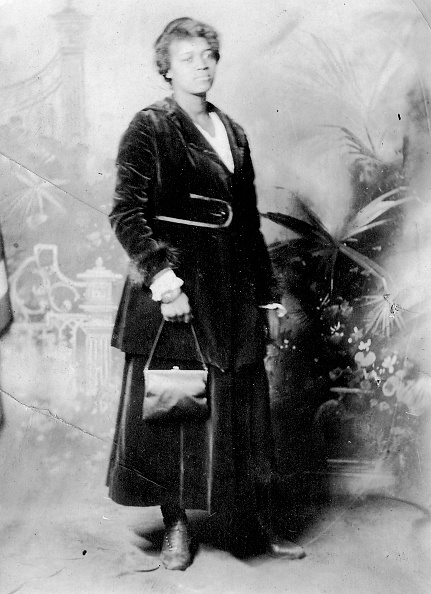em pe: (112, 5, 291, 524)
